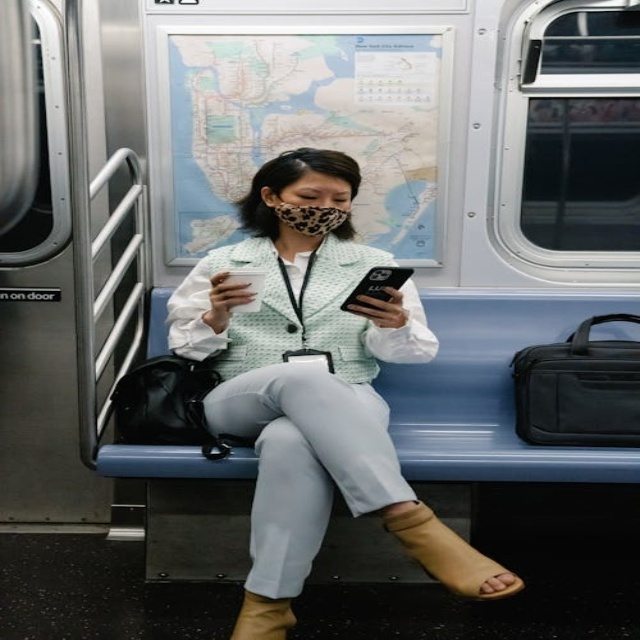Mascara: (270, 197, 350, 237)
Sin_gafas: (285, 183, 352, 201)
Sin_guantes: (339, 281, 411, 324), (204, 268, 259, 317)
